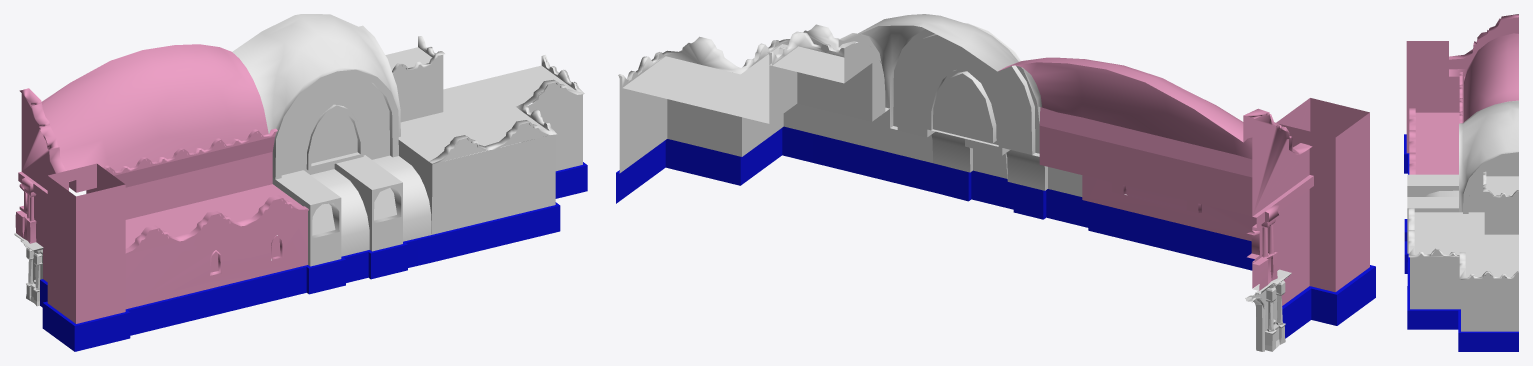
The model's file is churchEx_LOD1.fbx.
3 renders of one model, left to right at view 1: azimuth 30°, elevation 25°; view 2: azimuth 150°, elevation 25°; view 3: azimuth 270°, elevation 25°, orthographic. The views are drawn at different scales.
Visible parts, largest first — view 1: ChurchEx_LOD1; view 2: ChurchEx_LOD1; view 3: ChurchEx_LOD1.
Part boxes in pixels (<box>): ChurchEx_LOD1: <box>14,14,587,351</box>; ChurchEx_LOD1: <box>616,14,1375,351</box>; ChurchEx_LOD1: <box>1404,14,1518,351</box>.
Bounding box in the file's own units: 4450 × 1623 × 1088.
